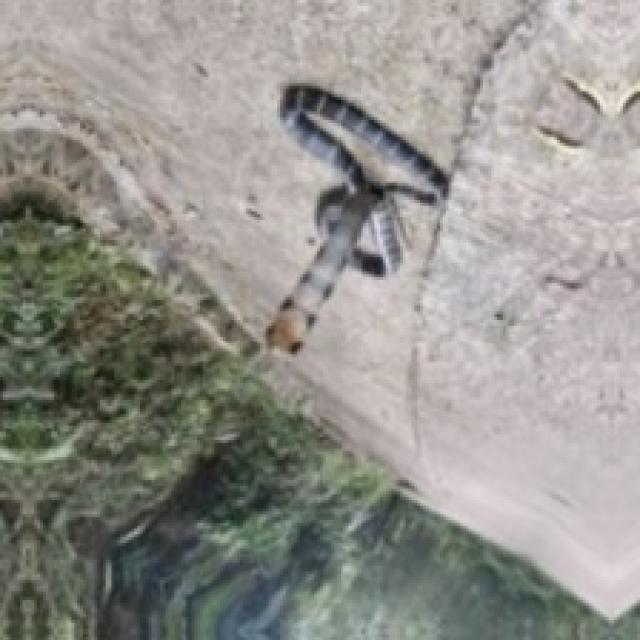king cobra: (266, 86, 446, 351)
